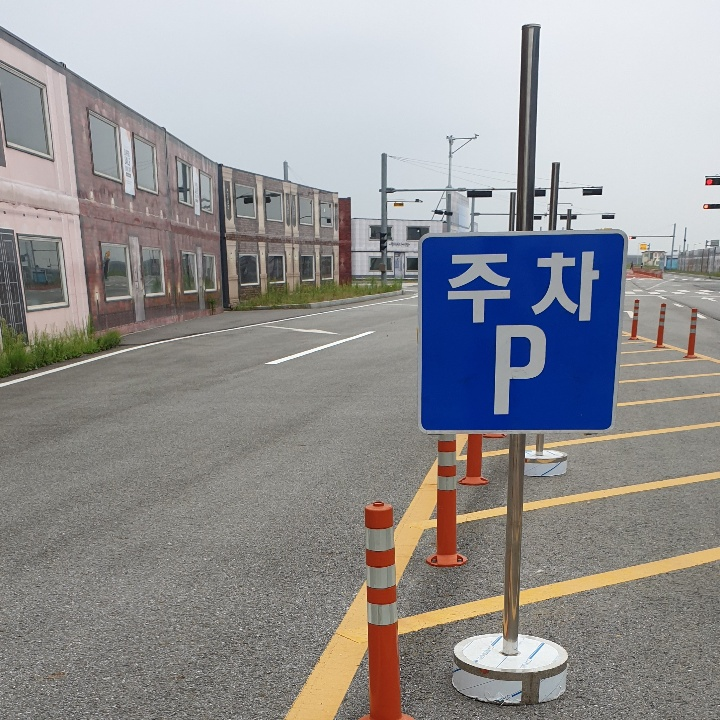parking: (486, 318, 556, 425)
